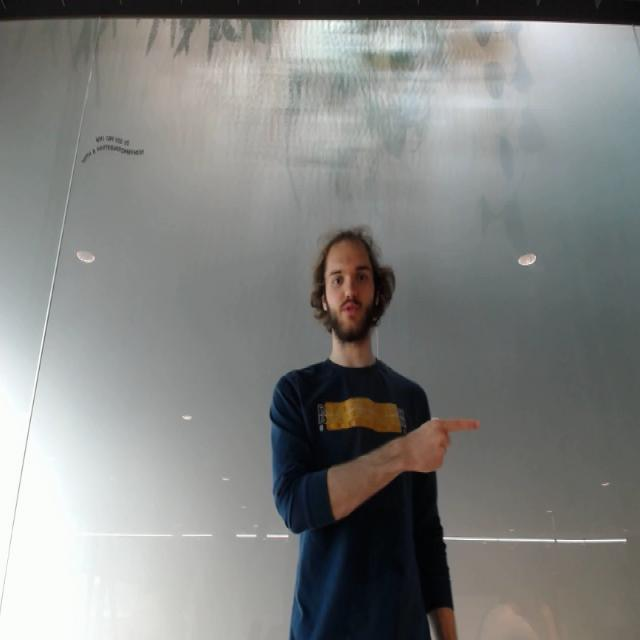right: (400, 408, 484, 484)
